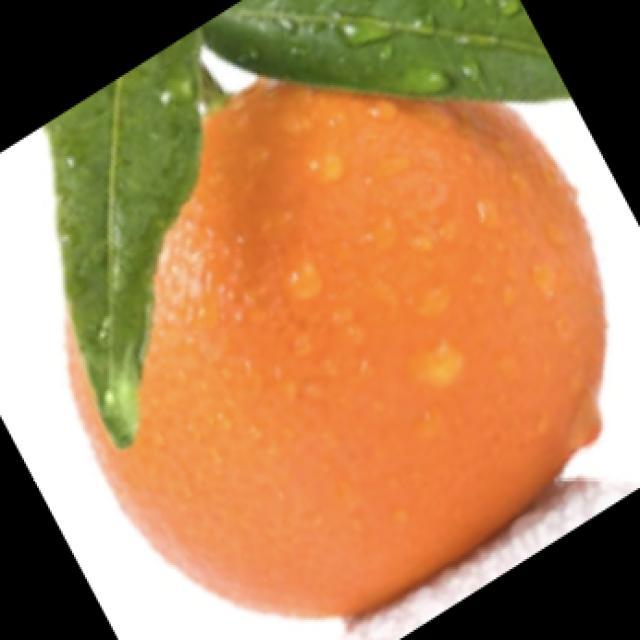Orange: (60, 76, 607, 621)
